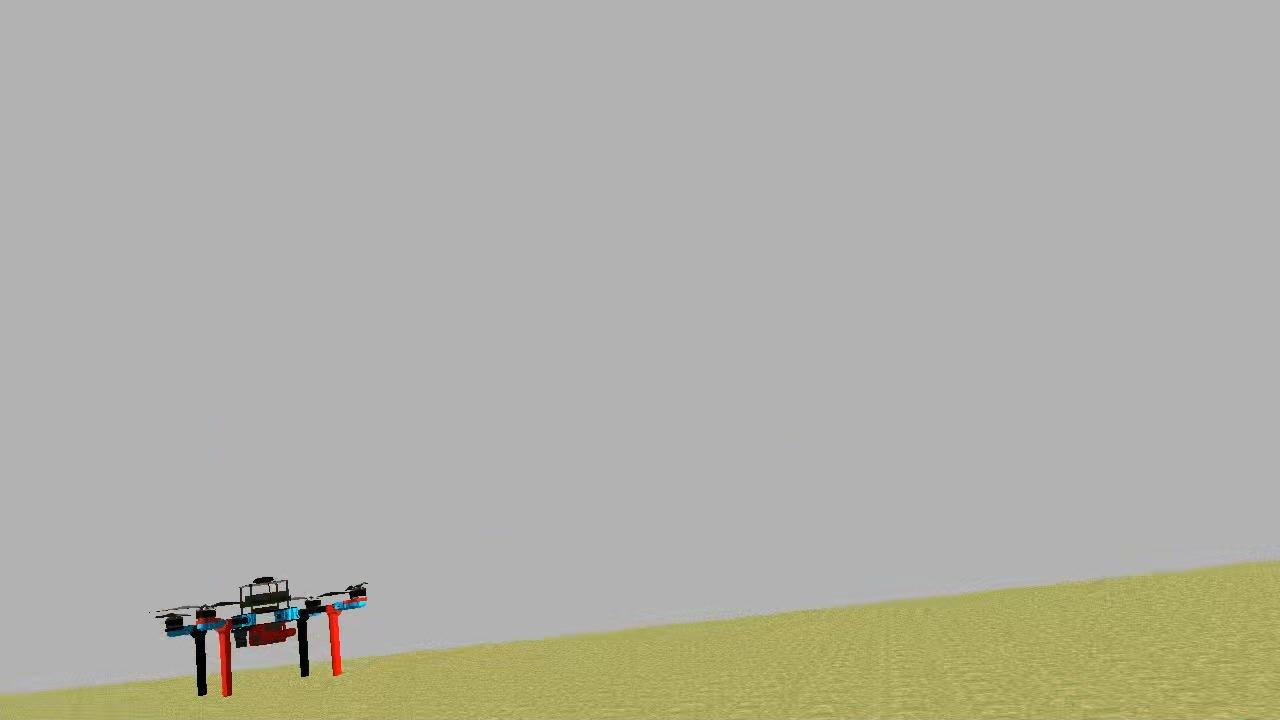UAV: (162, 566, 370, 698)
